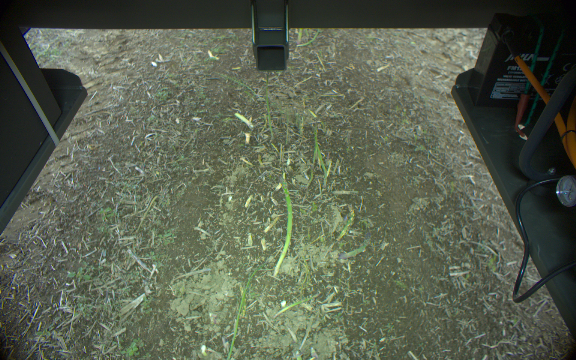aspa: (226, 258, 272, 360), (273, 176, 293, 275), (271, 292, 320, 323), (336, 231, 374, 262), (259, 70, 275, 140), (303, 136, 320, 188), (334, 202, 355, 242), (315, 142, 330, 189), (297, 28, 325, 49)
